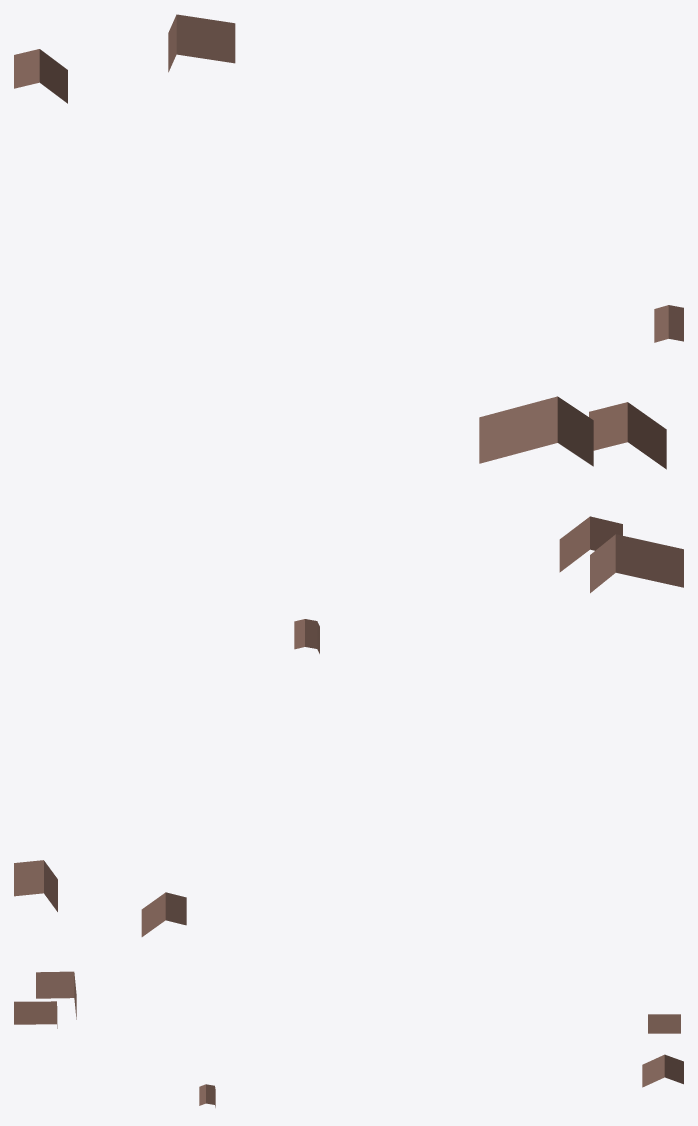
File: c_1629_17827_buildings_residential.glb
3 renders of one model, top to bottom at view 1: azimuth 30°, elevation 25°; view 2: azimuth 150°, elevation 25°; view 3: azimuth 270°, elevation 25°, orthographic. The views are drawn at different scales.
Visible parts, largest first — view 1: geometry_0; view 2: geometry_0; view 3: geometry_0.
Boxes of the visible parts, bbox=[...] form: geometry_0: bbox=[14, 14, 683, 469]; geometry_0: bbox=[14, 516, 683, 936]; geometry_0: bbox=[14, 971, 683, 1107].
Bounding box in the file's own units: 79.68 × 21.02 × 252.
